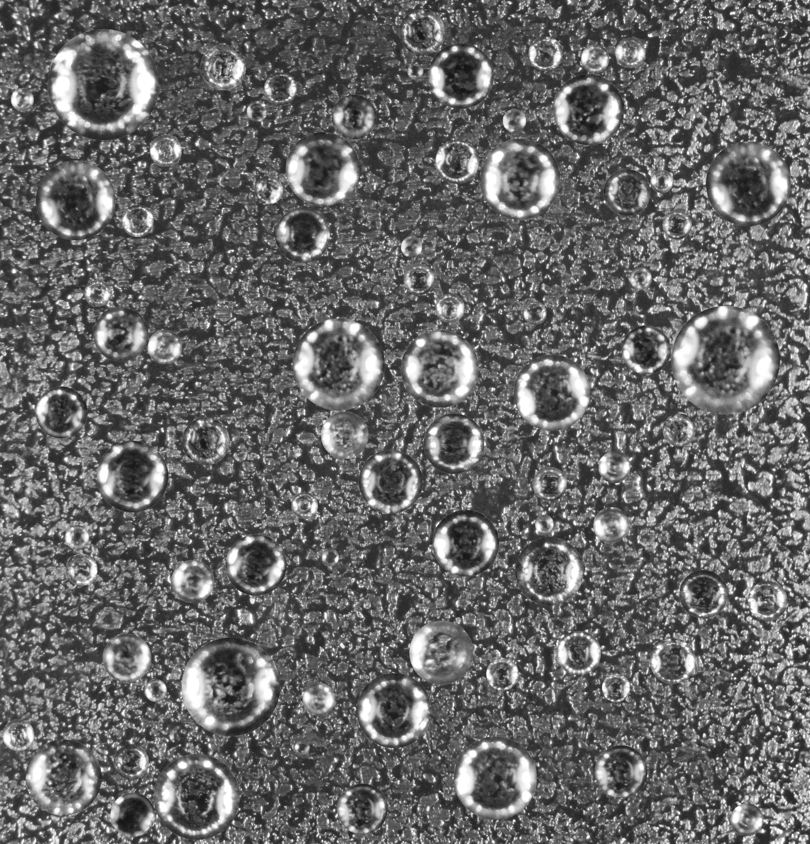Bubble: (47, 29, 158, 140), (671, 305, 780, 414), (181, 637, 280, 736), (292, 318, 384, 410), (153, 754, 239, 839), (706, 141, 790, 226), (453, 736, 536, 819), (479, 138, 560, 219), (35, 160, 115, 240), (401, 330, 478, 407), (513, 354, 590, 430), (25, 739, 101, 815), (356, 673, 431, 748), (285, 132, 359, 205), (96, 440, 168, 512), (553, 74, 624, 144), (515, 537, 583, 605), (432, 510, 499, 576), (428, 43, 493, 108), (358, 449, 422, 513), (409, 620, 473, 684), (225, 534, 286, 595), (423, 413, 484, 473), (275, 207, 330, 262), (93, 306, 148, 361), (594, 745, 647, 798), (35, 386, 87, 438), (337, 783, 387, 834), (621, 325, 670, 374), (102, 634, 151, 682), (679, 570, 727, 618), (321, 411, 368, 458), (182, 417, 229, 464), (603, 169, 650, 215), (399, 9, 445, 54), (200, 44, 245, 90), (650, 638, 695, 683), (331, 94, 376, 139), (110, 792, 154, 837), (556, 631, 600, 675), (435, 139, 479, 183), (171, 560, 214, 602), (747, 581, 787, 620), (593, 507, 629, 542), (113, 744, 148, 779), (147, 329, 182, 364), (528, 36, 562, 70), (533, 467, 567, 501), (730, 803, 763, 836), (263, 72, 296, 105), (662, 413, 695, 446), (302, 683, 335, 715), (65, 553, 97, 585), (2, 719, 34, 751), (149, 134, 181, 166), (486, 658, 518, 690), (598, 451, 630, 483), (121, 205, 153, 236), (403, 263, 434, 294), (615, 37, 645, 67), (662, 210, 691, 239), (435, 293, 464, 322), (602, 673, 630, 702), (254, 175, 282, 204), (581, 44, 609, 72), (84, 279, 111, 306), (291, 492, 317, 518), (64, 525, 89, 549), (502, 109, 526, 132), (523, 301, 546, 324), (10, 88, 33, 110), (650, 170, 673, 192), (144, 679, 166, 701), (629, 267, 651, 289), (246, 100, 267, 121), (401, 236, 422, 257), (535, 514, 553, 533), (320, 548, 338, 566), (407, 63, 423, 79), (294, 741, 309, 756)
